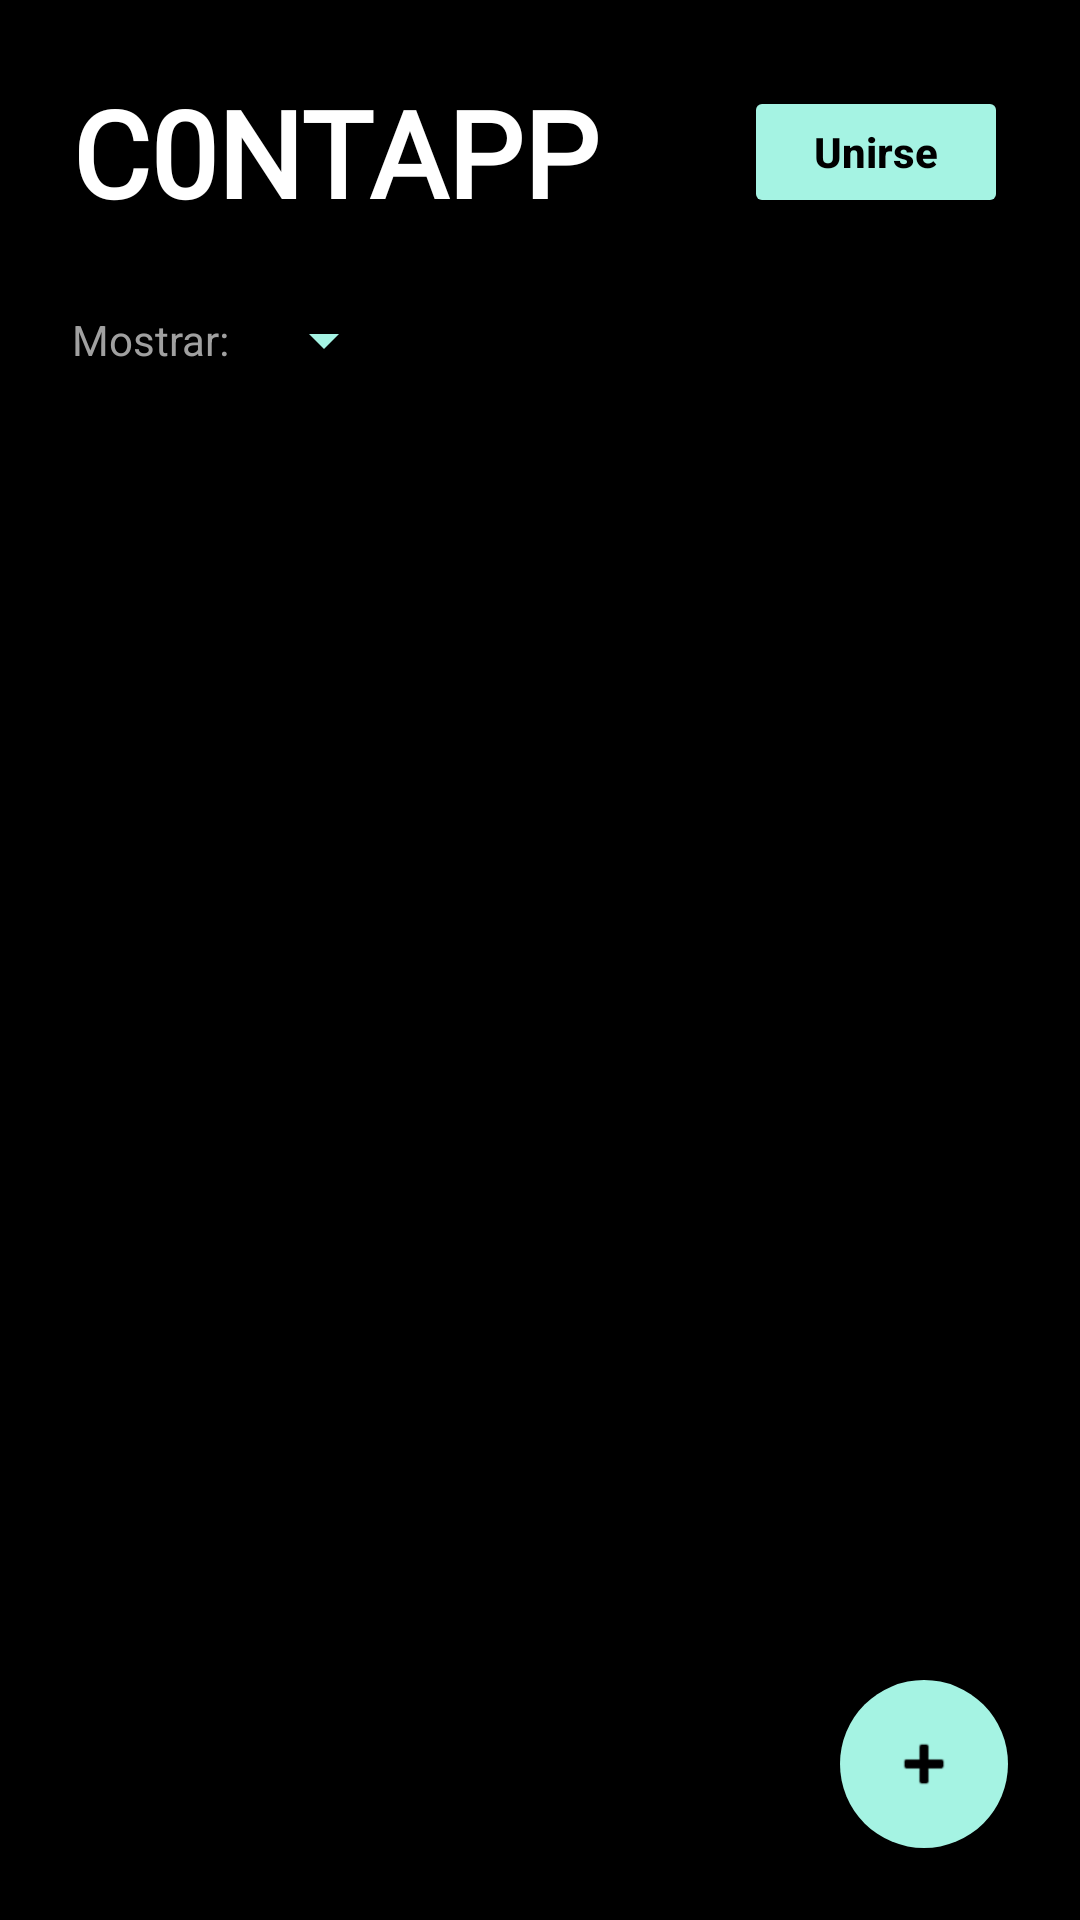

Named icons in this screenshot (1080×1920) and their bounding boxes, BBox(x1, y1, x2, y2):
Crear Contador: BBox(840, 1680, 1008, 1848)
